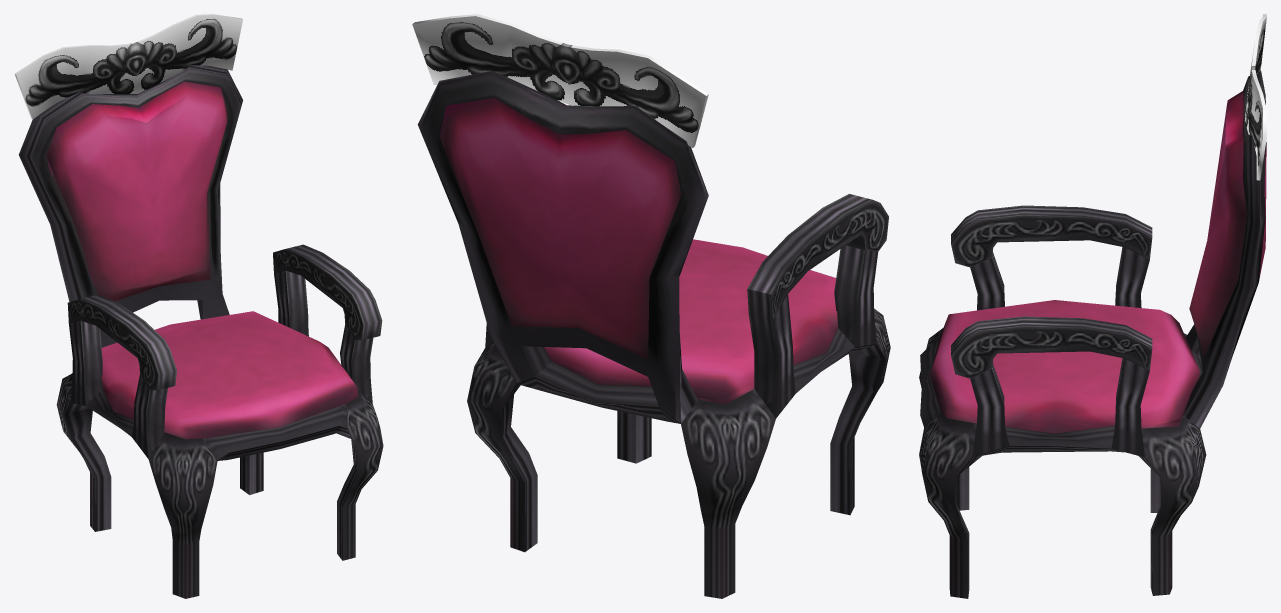
The model's file is LingerieChair_HD.fbx.
3 renders of one model, left to right at view 1: azimuth 30°, elevation 25°; view 2: azimuth 150°, elevation 25°; view 3: azimuth 270°, elevation 25°, orthographic. The views are drawn at different scales.
Parts seen in each view (by area): view 1: LingerieChair; view 2: LingerieChair; view 3: LingerieChair.
Part boxes in pixels (<box>): LingerieChair: <box>14,14,383,598</box>; LingerieChair: <box>412,14,890,598</box>; LingerieChair: <box>919,14,1266,598</box>.
Size of the model in its own units: 0.5376 by 1.01 by 0.6428.
